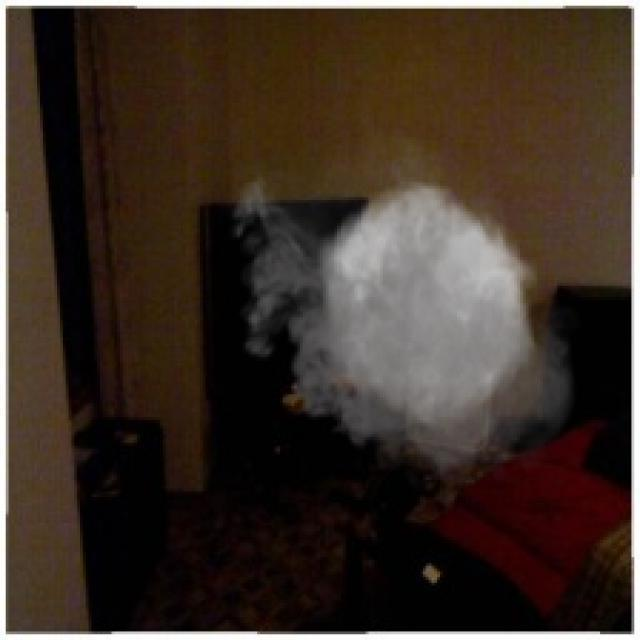Smoke: (220, 114, 589, 497)
